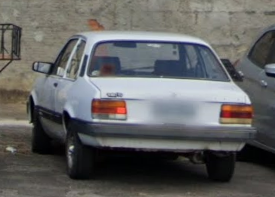car: (25, 31, 256, 183)
